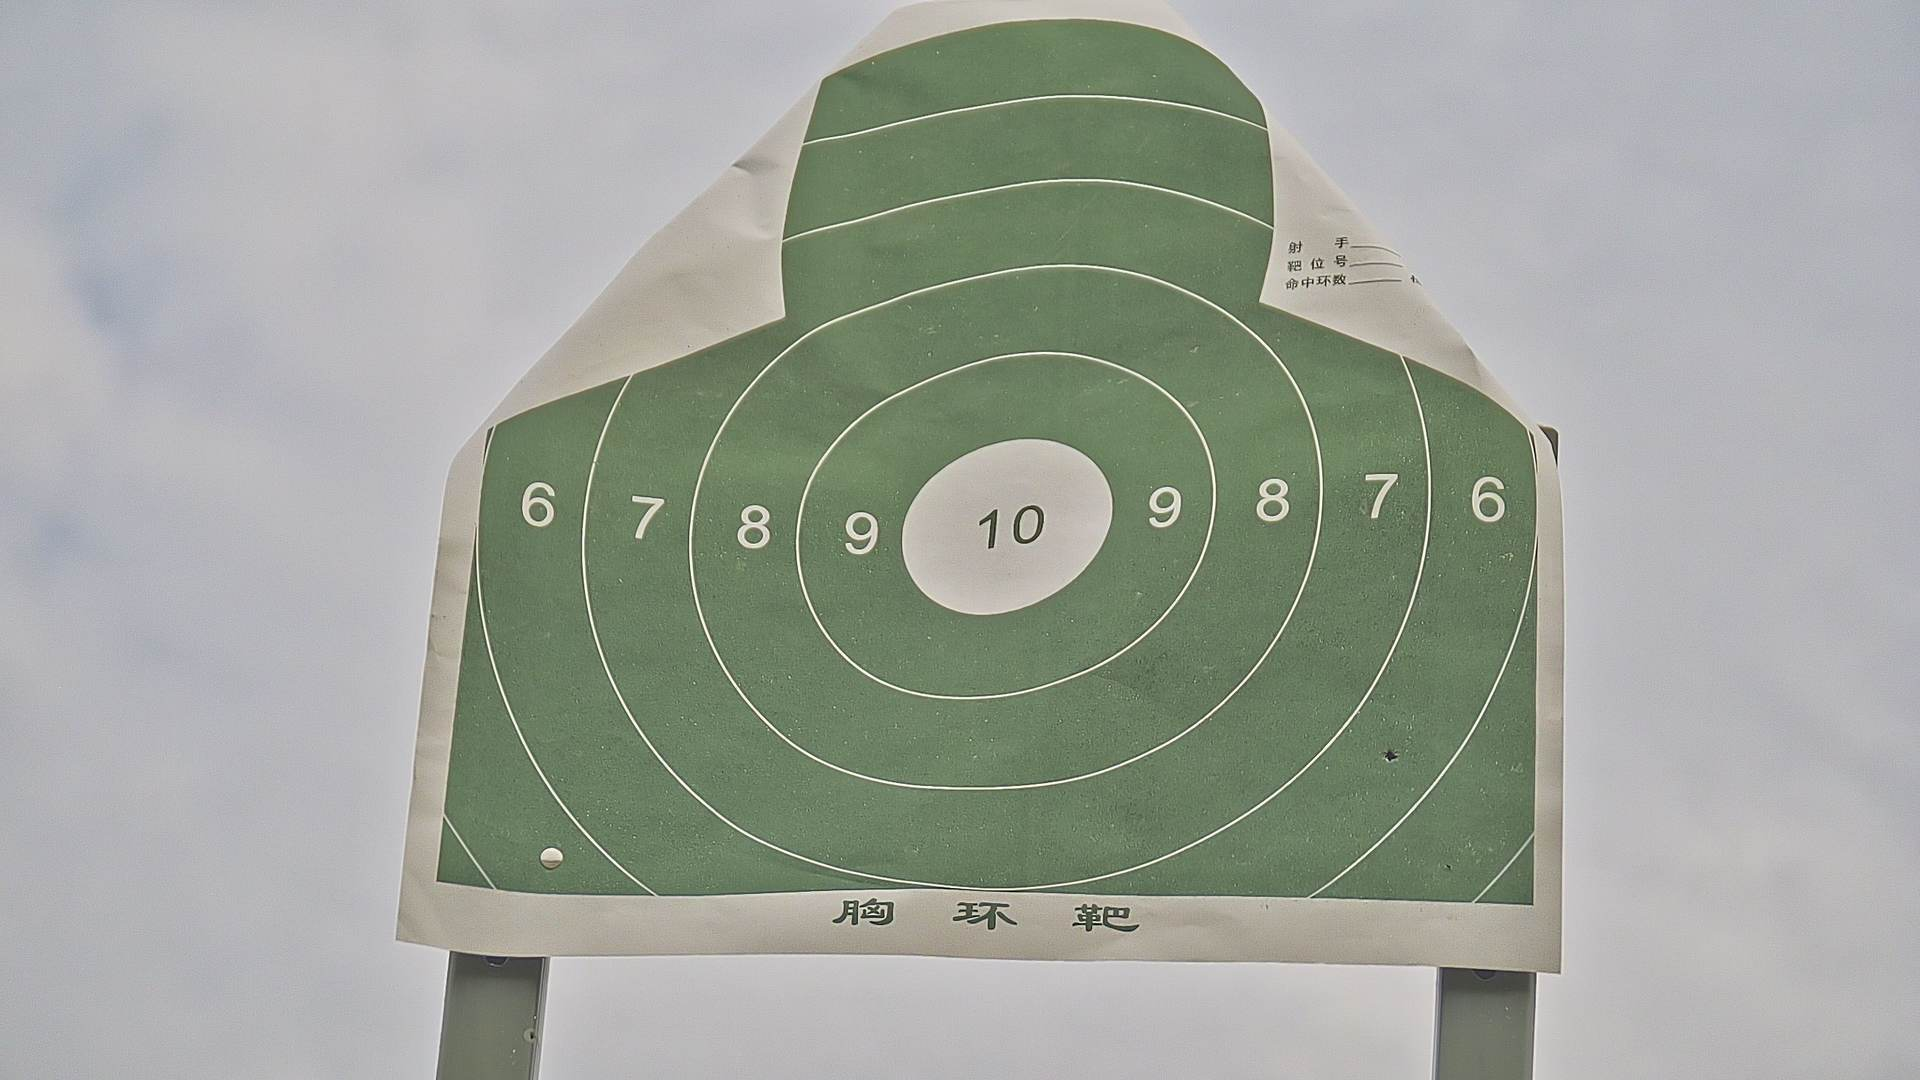hole: (1385, 750, 1396, 762)
kernel: (1001, 527, 1006, 531)
target: (435, 21, 1538, 910)
ten: (901, 438, 1113, 616)
